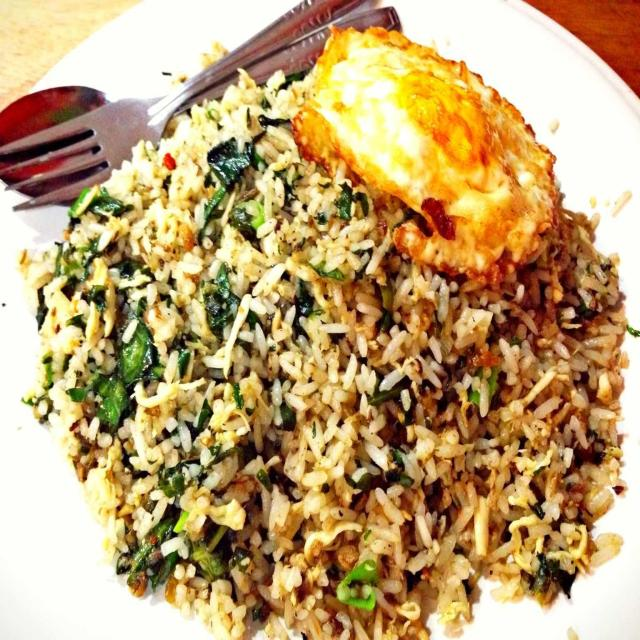Nasi Goreng: (18, 31, 630, 636)
